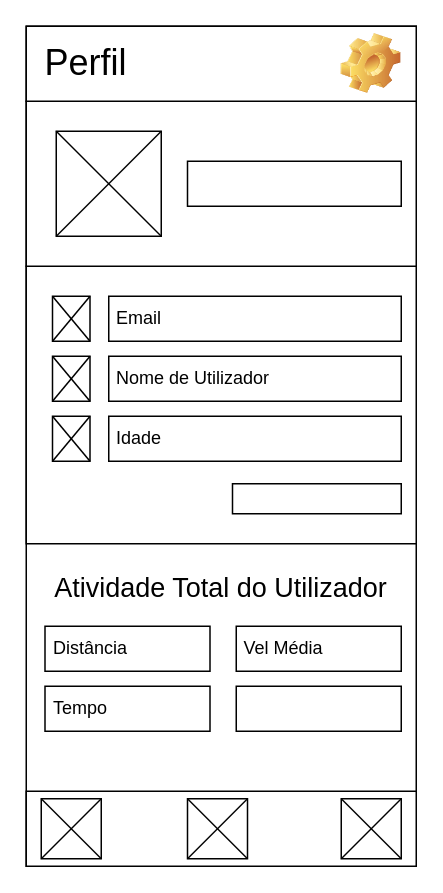
Some shapes in this 443 by 893 pixel diagram are drawn without their labels. The shapes that lost their labels are listed below. From the top down, each one's centre as x and y in pixels, then its label:
At [293,183]: "Nome".
At [316,498]: "Guardar Alterações".
